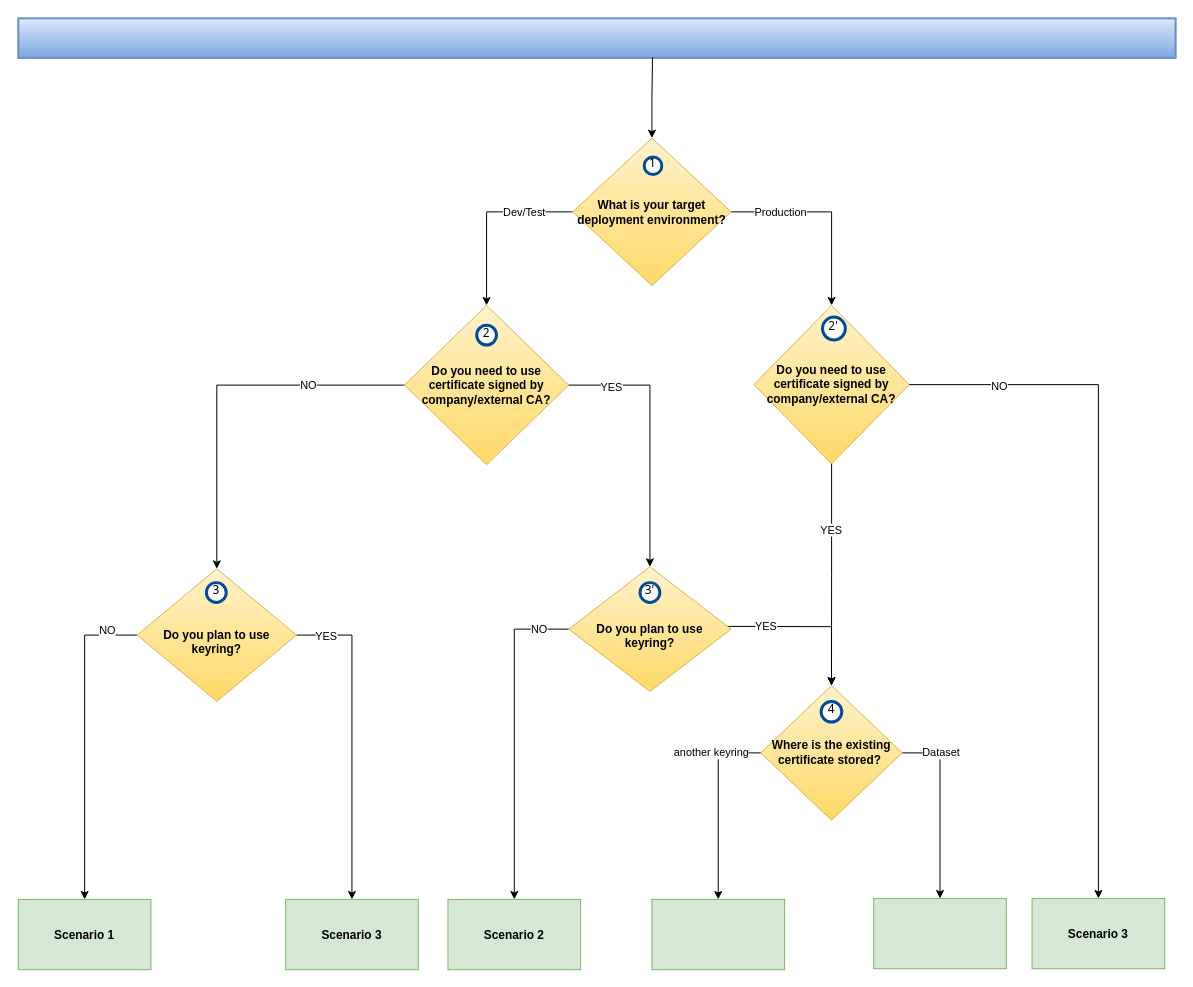
Image size: 1193x987. Some labels were removed from this diagram. The shapes that lost their labels are listed below. From the top down, each one's centre as x and y in pixels, then its label:
At point 596,37: "Configure Zowe Certificates".
At point 718,934: "Scenario 4".
At point 939,933: "Scenario 5".
